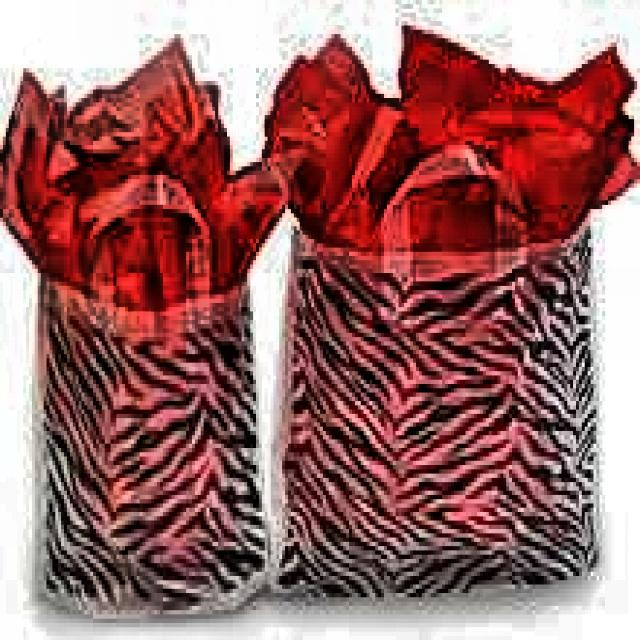Plastic: (253, 41, 635, 601), (4, 35, 289, 626)
